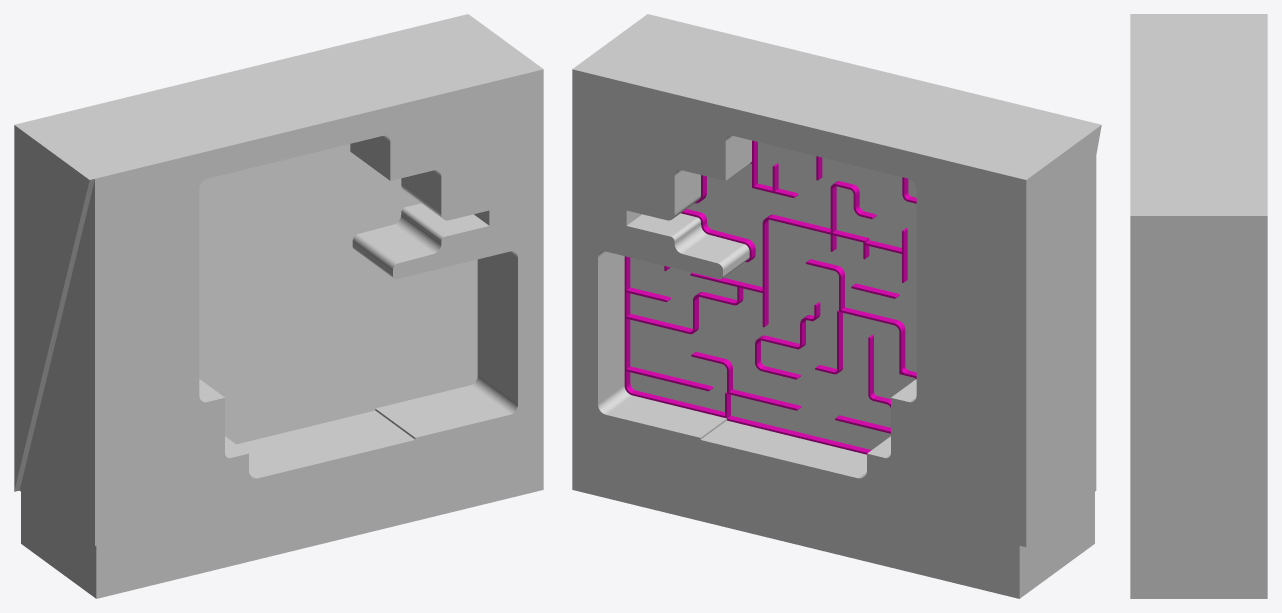
The model's file is laberinto2.fbx.
The picture shows the model from 3 angles, left to right: view 1: azimuth 30°, elevation 25°; view 2: azimuth 150°, elevation 25°; view 3: azimuth 270°, elevation 25°; orthographic projection. The views are drawn at different scales.
Visible parts, largest first — view 1: NivL3, Cube; view 2: NivL3, Cube, NivL; view 3: NivL3.
Boxes of the visible parts, x1,y1,x2,y2 form: NivL3: [14, 14, 543, 598]; Cube: [199, 144, 477, 444]; NivL3: [572, 14, 1101, 598]; Cube: [630, 142, 916, 449]; NivL: [624, 140, 916, 454]; NivL3: [1130, 14, 1267, 598].
Size of the model in its own units: 116 by 33.5 by 103.
